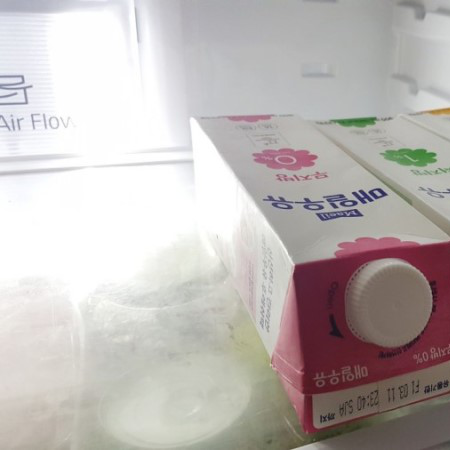milk: (187, 106, 450, 436)
